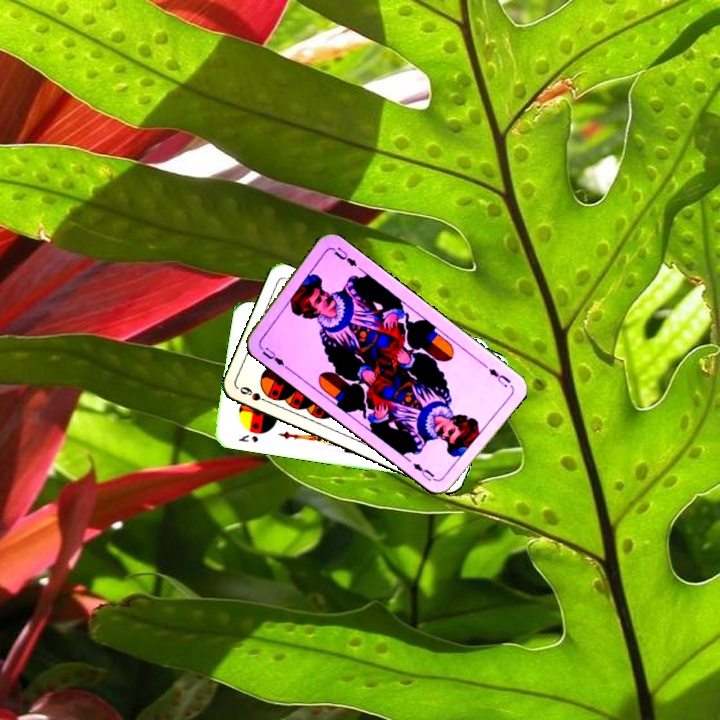EU: (255, 341, 290, 371), (484, 364, 513, 390)
S9: (235, 382, 274, 406)
SK: (234, 431, 261, 445)
